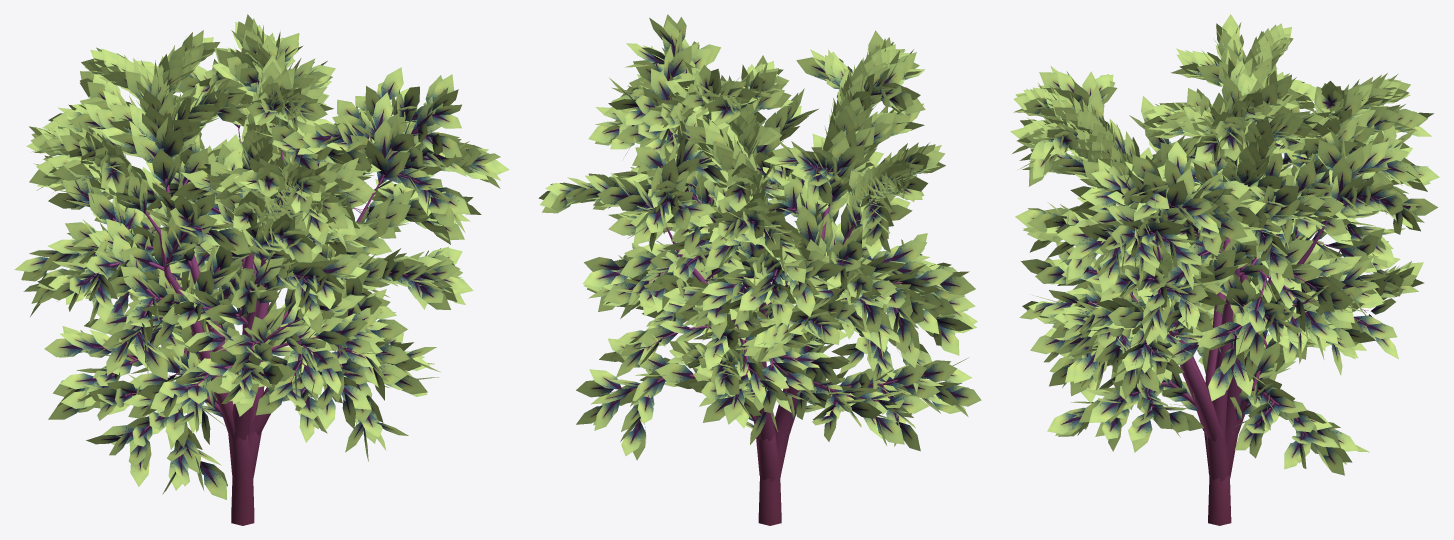
The model's file is GrowTree2.fbx.
3 renders of one model, left to right at view 1: azimuth 30°, elevation 25°; view 2: azimuth 150°, elevation 25°; view 3: azimuth 270°, elevation 25°, orthographic.
Parts seen in each view (by area): view 1: tree; view 2: tree; view 3: tree.
Boxes of the visible parts, <box> form: tree: <box>14,14,509,525</box>; tree: <box>538,14,981,525</box>; tree: <box>1010,14,1439,525</box>.
Bounding box in the file's own units: 1213 × 1346 × 1118.
